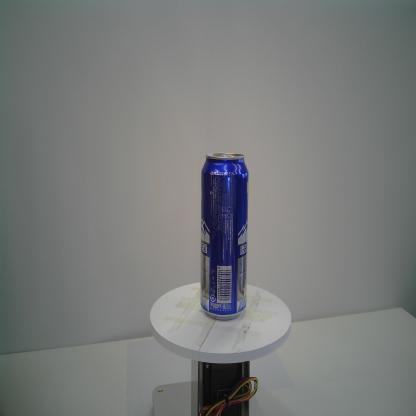Alcohol: (201, 151, 250, 322)
